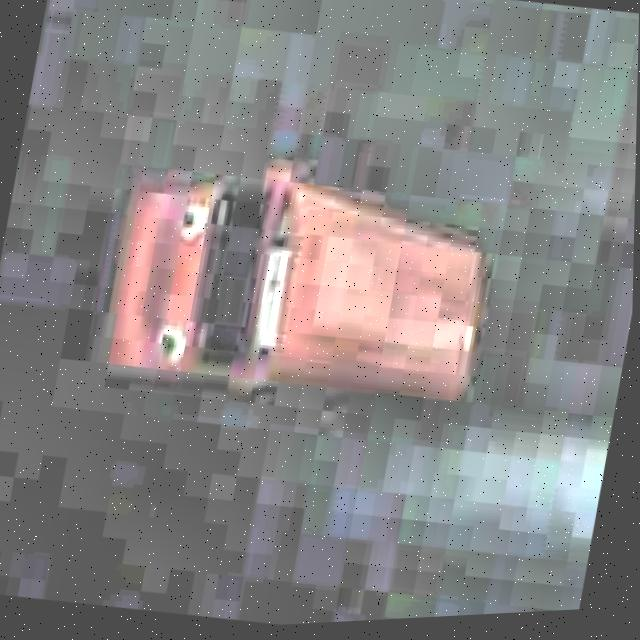bus: (60, 116, 525, 459)
